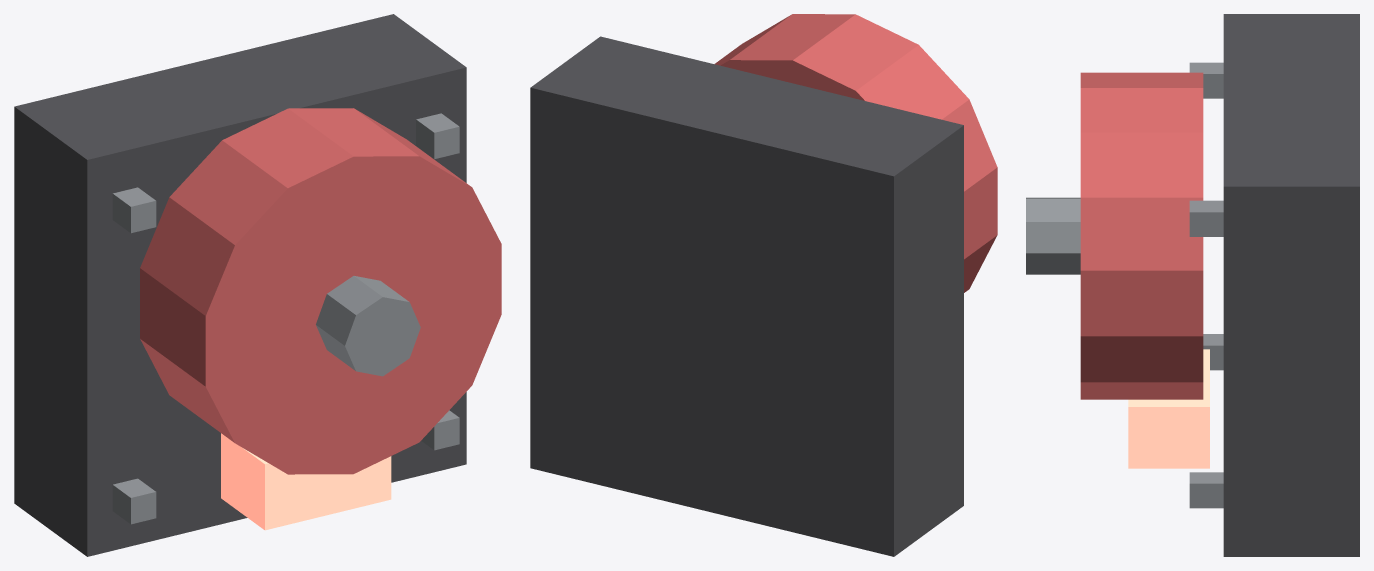
File: alarm.glb
3 renders of one model, left to right at view 1: azimuth 30°, elevation 25°; view 2: azimuth 150°, elevation 25°; view 3: azimuth 270°, elevation 25°, orthographic. The views are drawn at different scales.
Visible parts, largest first — view 1: alarm; view 2: alarm; view 3: alarm.
Boxes of the visible parts, bbox=[...] form: alarm: bbox=[14, 14, 501, 556]; alarm: bbox=[530, 14, 997, 556]; alarm: bbox=[1026, 14, 1359, 556].
Bounding box in the file's own units: 0.3 × 0.31 × 0.245.
